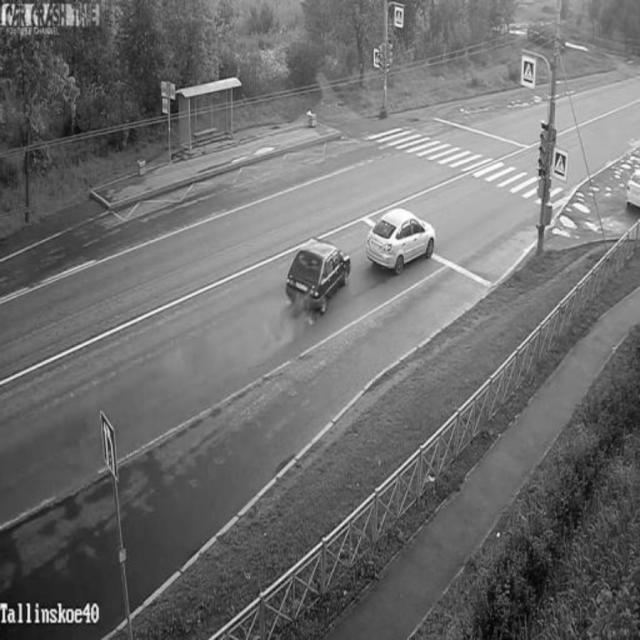vehicle: (287, 235, 353, 316), (368, 203, 436, 276), (625, 168, 640, 210)
